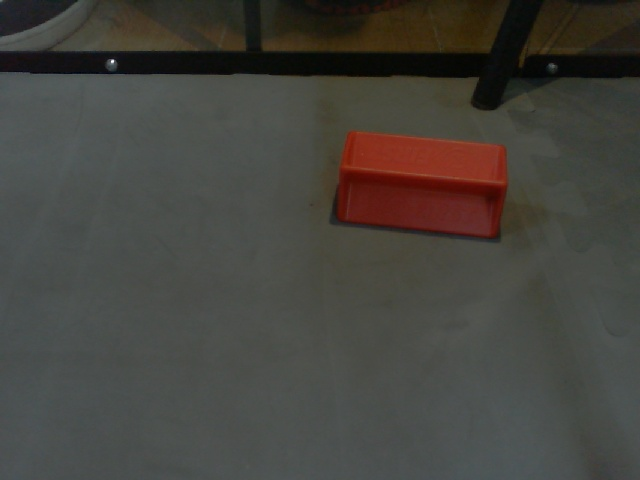RedSample: (333, 128, 510, 246)
